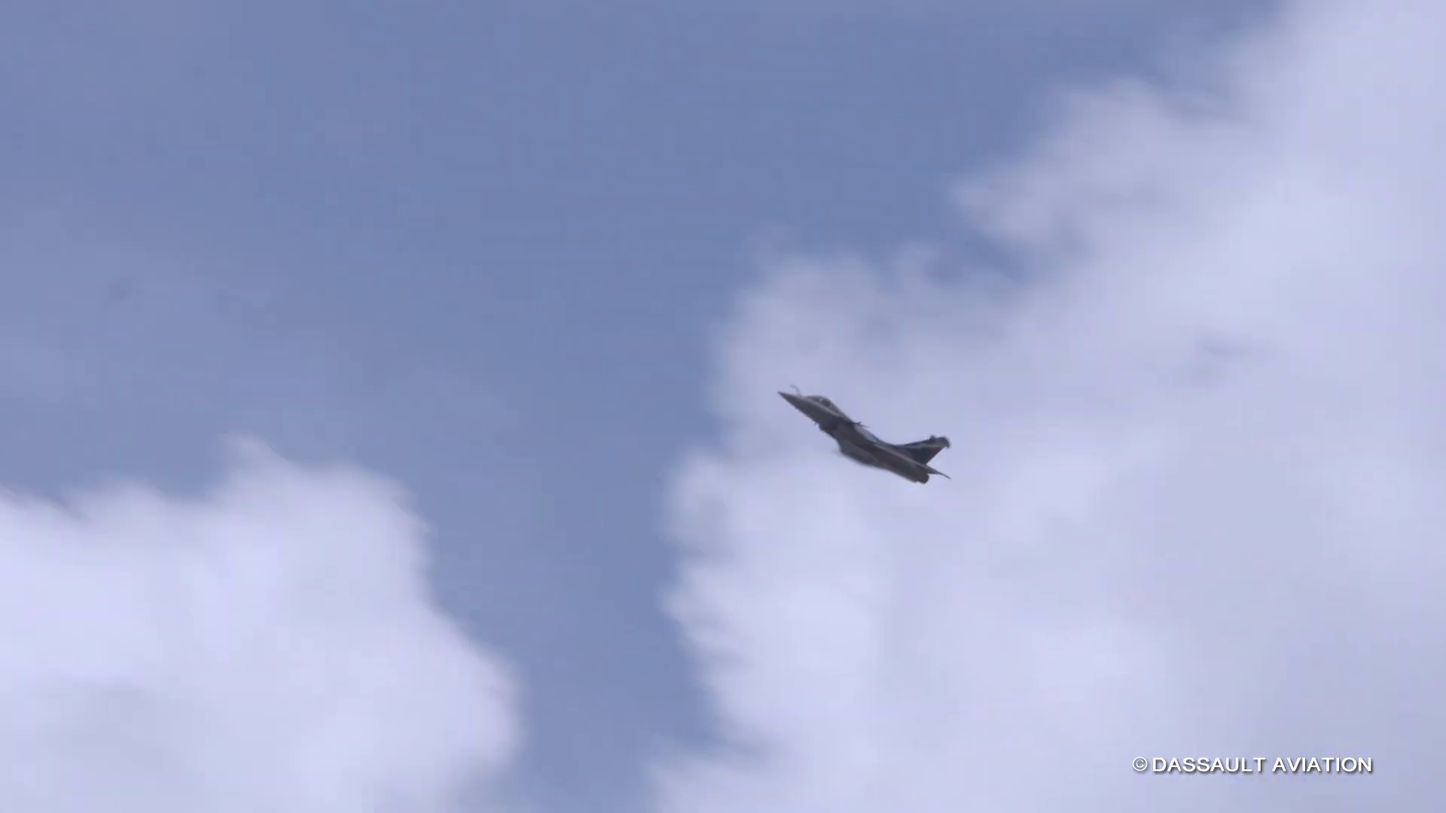Rafale: (776, 377, 962, 489)
